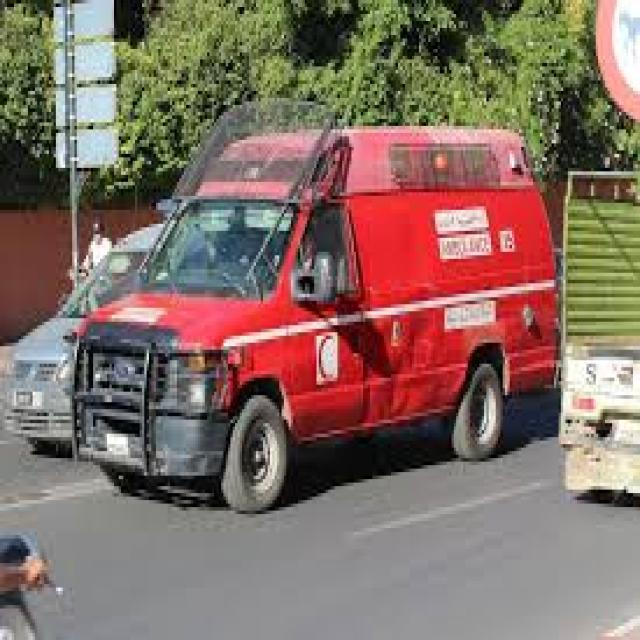ambulance: (51, 86, 584, 526)
